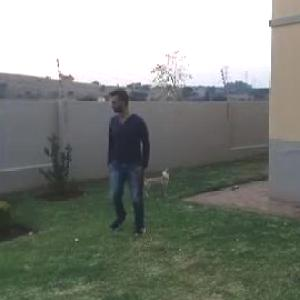follow: (106, 85, 154, 236)
